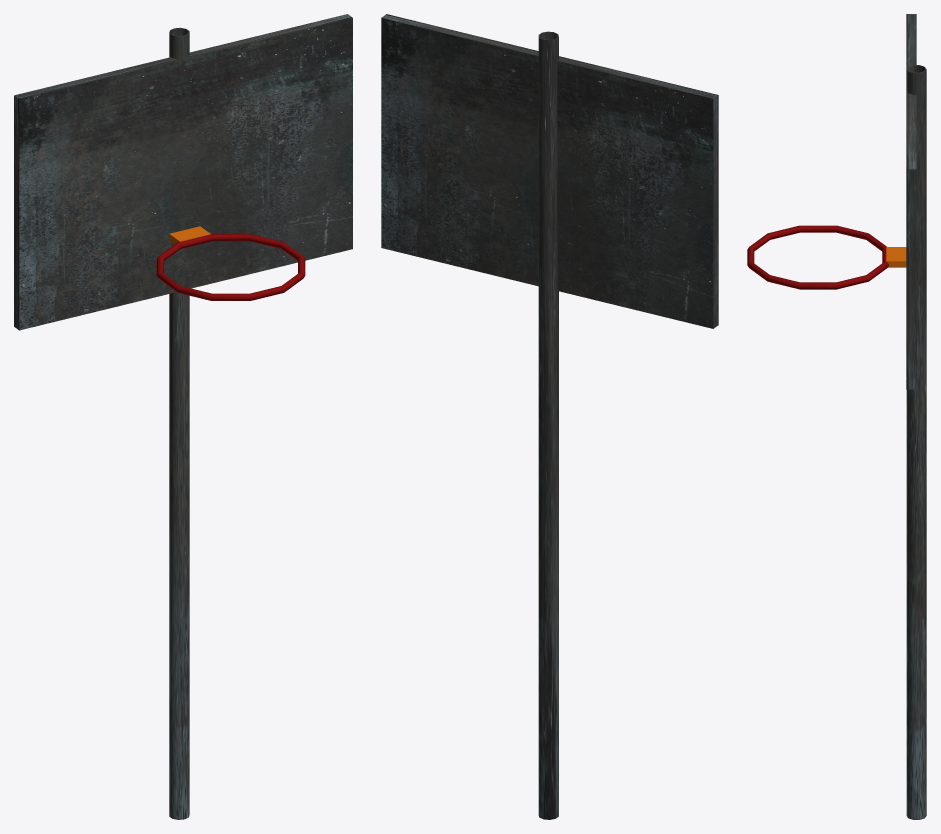
The model's file is hoop.obj.
3 views of the same model, side by side, from view 1: azimuth 30°, elevation 25°; view 2: azimuth 150°, elevation 25°; view 3: azimuth 270°, elevation 25° (orthographic). The views are drawn at different scales.
Parts seen in each view (by area): view 1: Box001, Tube001, Torus001; view 2: Box001, Tube001; view 3: Tube001, Box001, Torus001, Box002.
Boxes of the visible parts, x1,y1,x2,y2 form: Box001: (14, 14, 352, 330); Tube001: (169, 27, 189, 819); Torus001: (156, 234, 305, 300); Box001: (381, 14, 718, 328); Tube001: (538, 31, 558, 819); Tube001: (906, 65, 926, 819); Box001: (906, 14, 916, 389); Torus001: (747, 225, 888, 289); Box002: (886, 247, 906, 267).
Size of the model in its own units: 0.8639 by 1.94 by 0.4213.
Materials: 5 (2 with a texture image).
